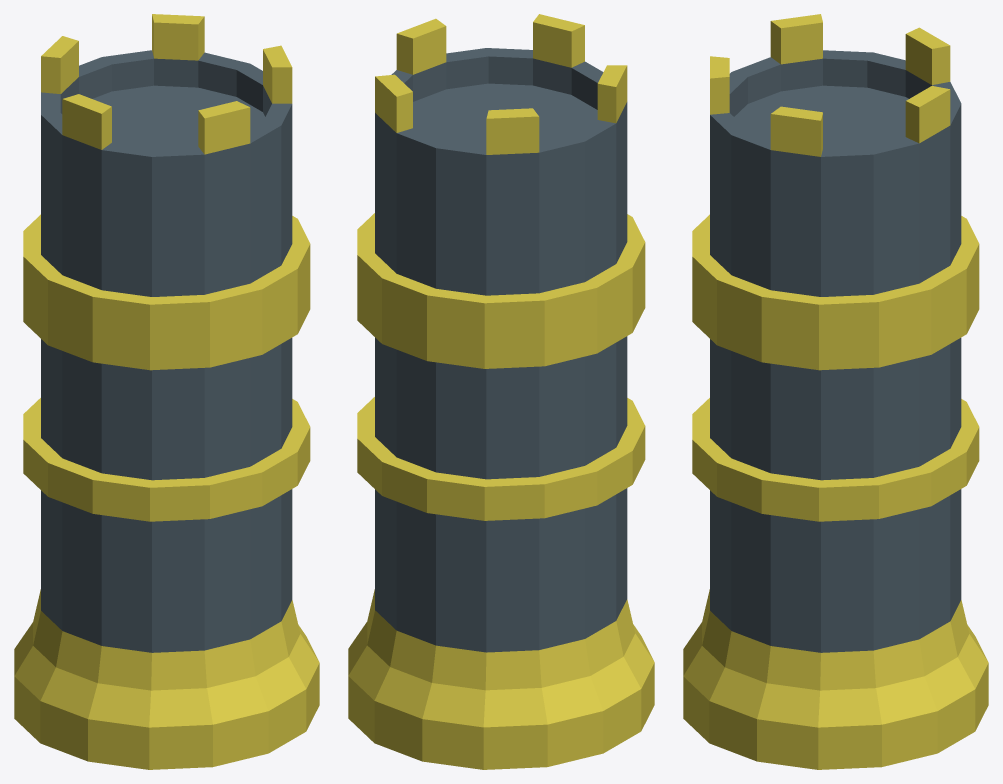
Rendered from archertower.fbx.
3 views of the same model, side by side, from view 1: azimuth 30°, elevation 25°; view 2: azimuth 150°, elevation 25°; view 3: azimuth 270°, elevation 25° (orthographic).
Parts seen in each view (by area): view 1: archertower; view 2: archertower; view 3: archertower.
Boxes of the visible parts, bbox=[...] form: archertower: bbox=[14, 14, 319, 769]; archertower: bbox=[348, 14, 654, 769]; archertower: bbox=[683, 14, 988, 769].
Bounding box in the file's own units: 288 × 290 × 665.
